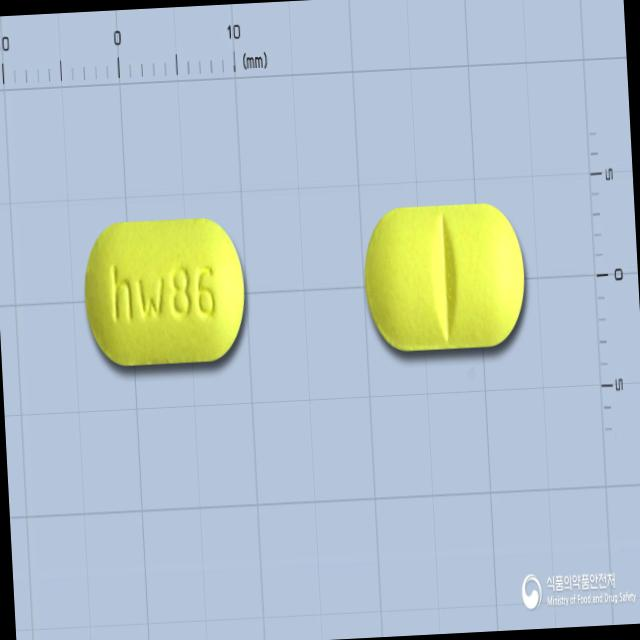Clarithin: (78, 210, 253, 377)
